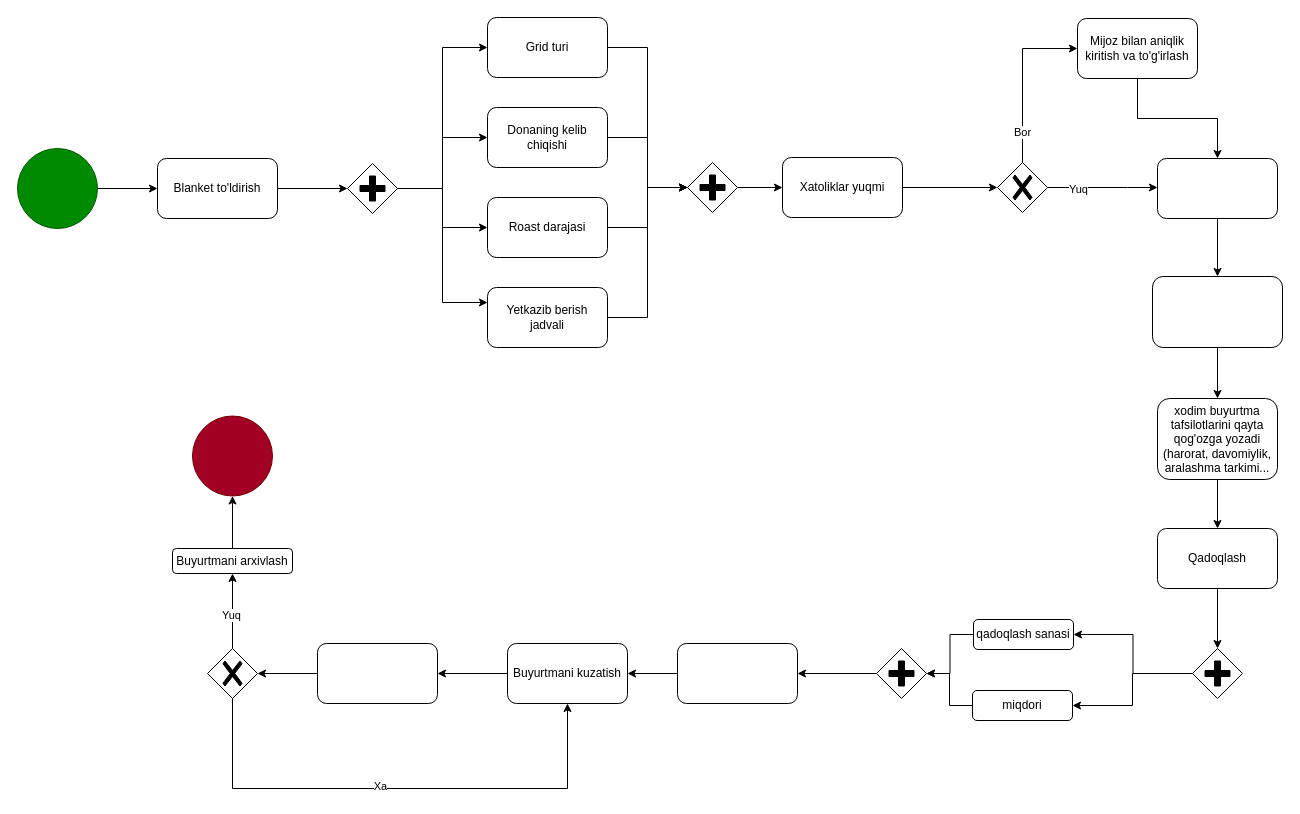
The diagram is 1300 pixels wide and 814 high, and some of its shapes have lost their labels. Here are the shapes that lost their labels. From the top down, the box of each, then its label:
(16, 148, 98, 228): Start
(1156, 158, 1278, 218): Buyurtma papkaga joylashtirish
(1152, 276, 1282, 348): Rostlashish bo'limiga kerak bo'lgan buyurtmalarni yozib olish xodimga topshirish
(192, 415, 272, 496): End
(316, 642, 438, 704): Kechikish yoki muamo yuzaga keldi
(676, 642, 798, 704): Yetkazib berish daftariga qayta yozish
